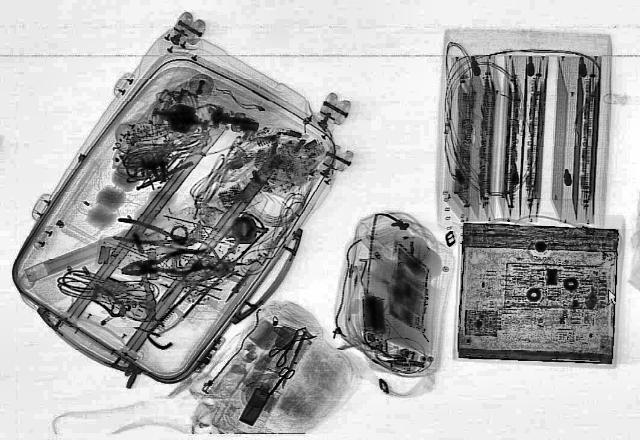Pliers: (163, 238, 255, 290), (116, 246, 212, 282), (109, 217, 199, 253)
